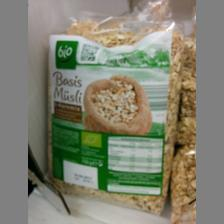Cerealien: (45, 26, 182, 214)
